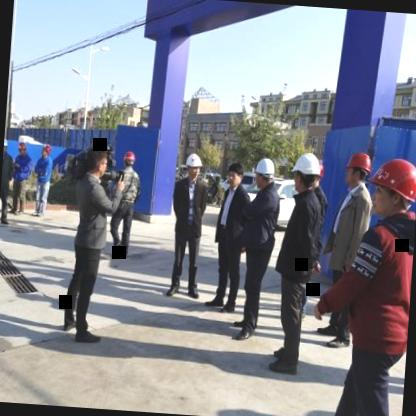helmet: (369, 155, 416, 219), (290, 150, 321, 194), (345, 150, 375, 188), (253, 157, 277, 188), (186, 152, 202, 178), (122, 152, 136, 170), (40, 142, 52, 158), (17, 141, 26, 156), (4, 136, 10, 157)
